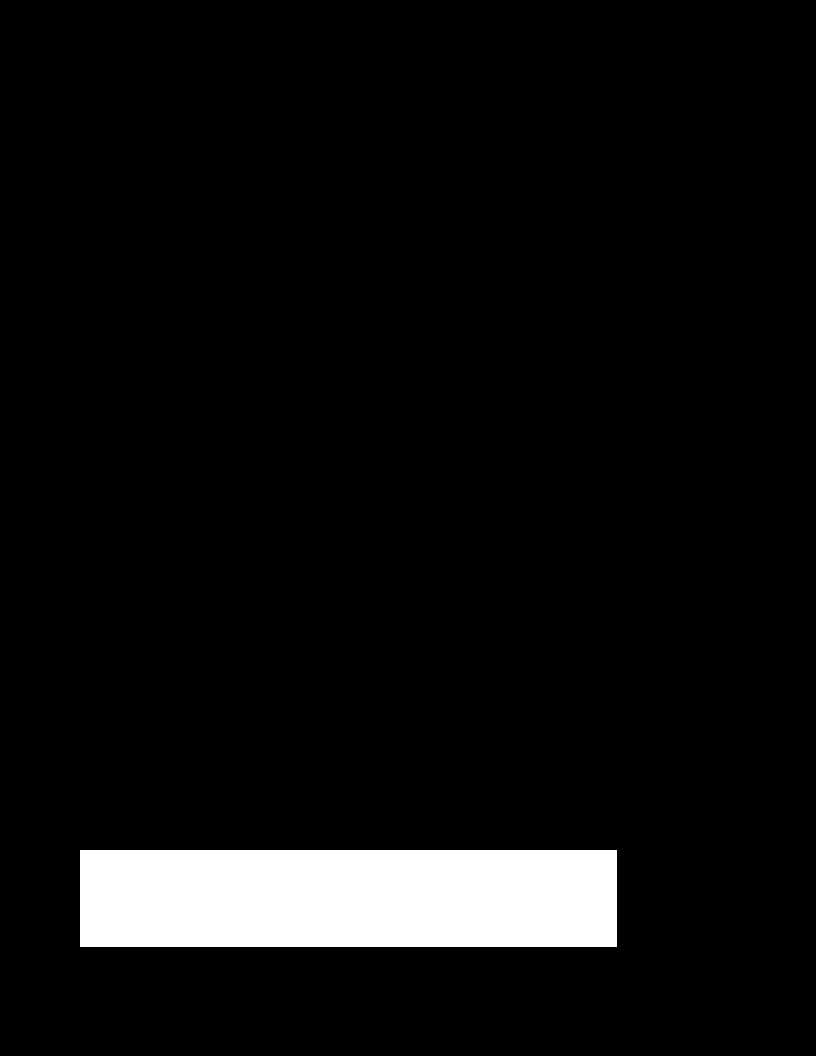table: (80, 850, 616, 946)
